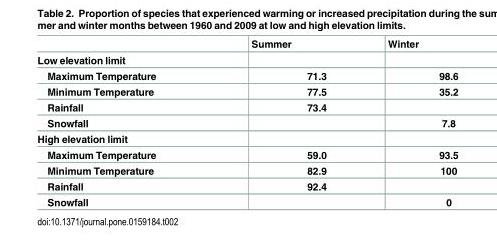table: (36, 37, 457, 207)
table column: (36, 37, 202, 207), (202, 37, 356, 207), (356, 37, 457, 207)
table column header: (36, 37, 457, 51)
table projected row header: (36, 51, 457, 67), (36, 130, 457, 146)
table row: (36, 51, 457, 67), (36, 67, 457, 83), (36, 98, 457, 114), (36, 114, 457, 130), (36, 130, 457, 146), (36, 146, 457, 162), (36, 177, 457, 193), (36, 83, 457, 98), (36, 162, 457, 177), (36, 37, 457, 51), (36, 193, 457, 207)
